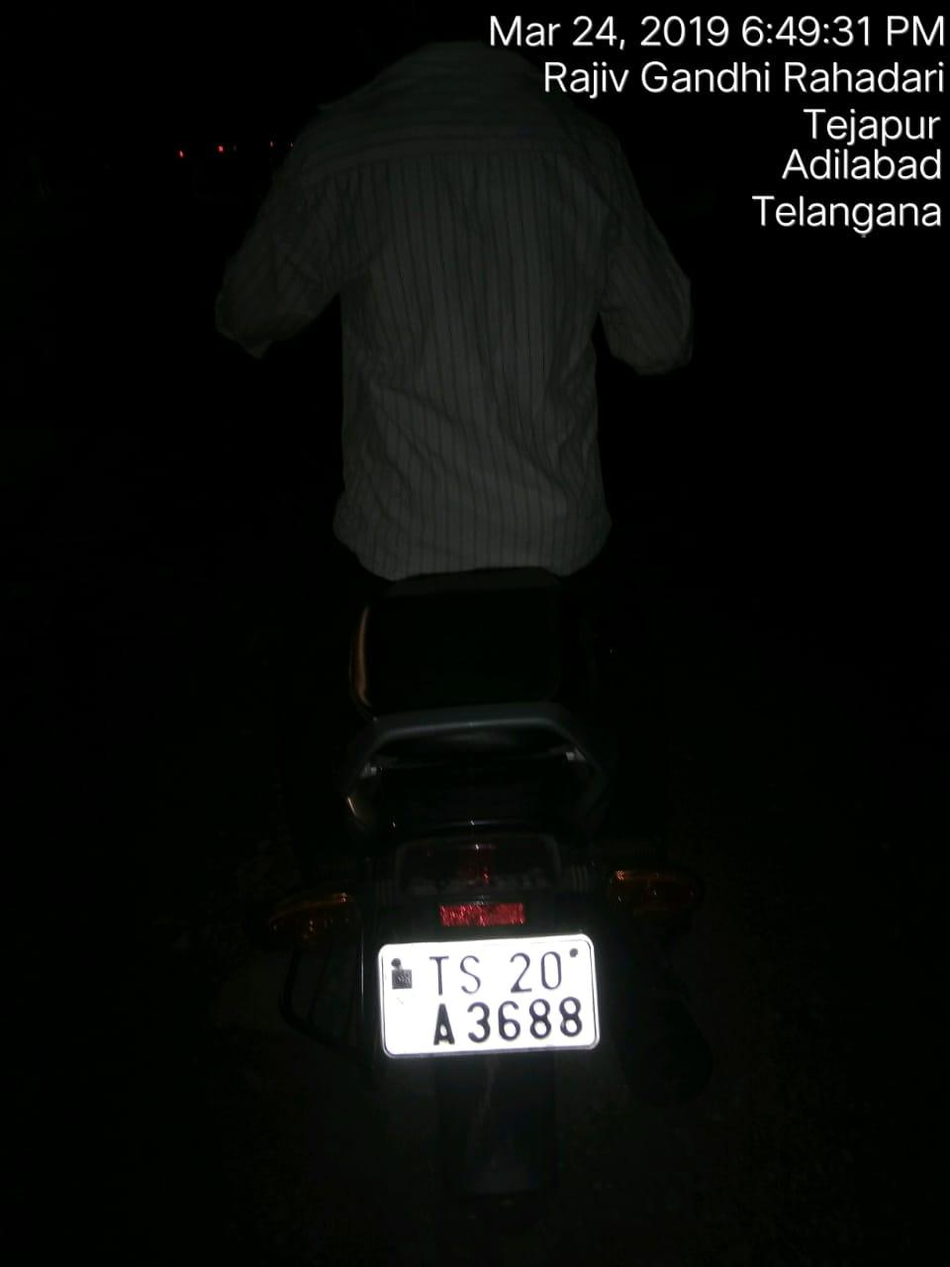plate: (351, 898, 623, 1076)
